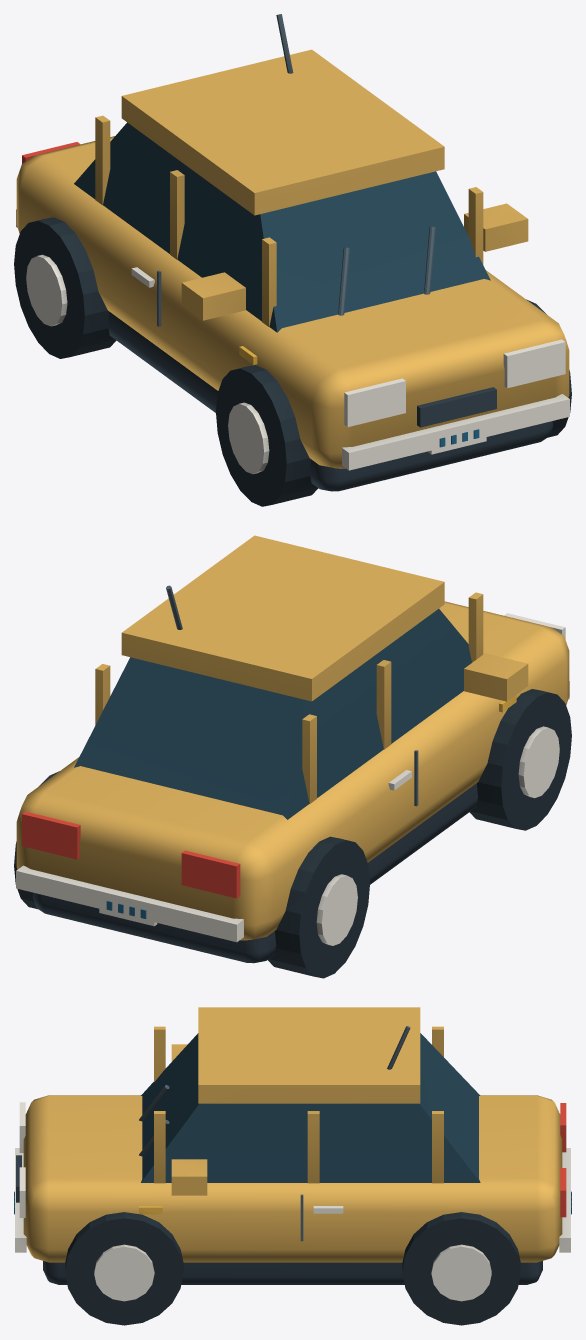
File: car-gold.glb
The picture shows the model from 3 angles, top to bottom: view 1: azimuth 30°, elevation 25°; view 2: azimuth 150°, elevation 25°; view 3: azimuth 270°, elevation 25°; orthographic projection. The views are drawn at different scales.
Visible parts, largest first — view 1: body, glazed cabin, rubber tire, handle, chassis, windscreen wiper; view 2: body, glazed cabin, rubber tire, handle, chassis, tail light, windscreen wiper; view 3: body, glazed cabin, rubber tire, handle, chassis, windscreen wiper, tail light.
Boxes of the visible parts, left/top/right/bottom form: body: left=16, top=49, right=569, bottom=468; glazed cabin: left=74, top=122, right=490, bottom=332; rubber tire: left=14, top=217, right=571, bottom=506; handle: left=16, top=209, right=569, bottom=474; chassis: left=108, top=312, right=552, bottom=491; windscreen wiper: left=157, top=14, right=435, bottom=326; body: left=16, top=535, right=569, bottom=940; glazed cabin: left=74, top=609, right=471, bottom=819; rubber tire: left=14, top=689, right=571, bottom=978; handle: left=16, top=613, right=569, bottom=945; chassis: left=33, top=783, right=477, bottom=963; tail light: left=22, top=811, right=240, bottom=898; windscreen wiper: left=166, top=585, right=418, bottom=806; body: left=23, top=1007, right=562, bottom=1262; glazed cabin: left=141, top=1033, right=480, bottom=1182; rubber tire: left=65, top=1212, right=520, bottom=1325; handle: left=15, top=1102, right=570, bottom=1301; chassis: left=16, top=1155, right=542, bottom=1284; windscreen wiper: left=139, top=1026, right=410, bottom=1241; tail light: left=560, top=1103, right=566, bottom=1217.
Size of the model in its own units: 1.06 by 0.983 by 1.89.
